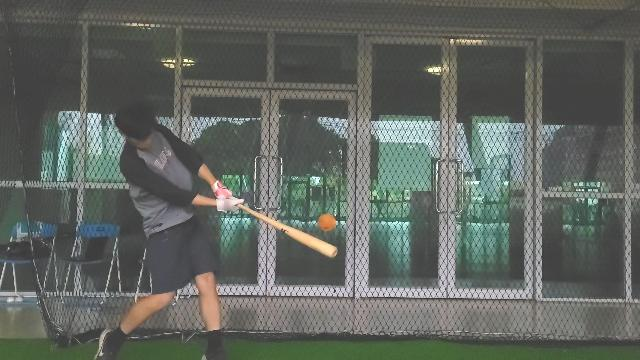bat: (238, 204, 338, 261)
